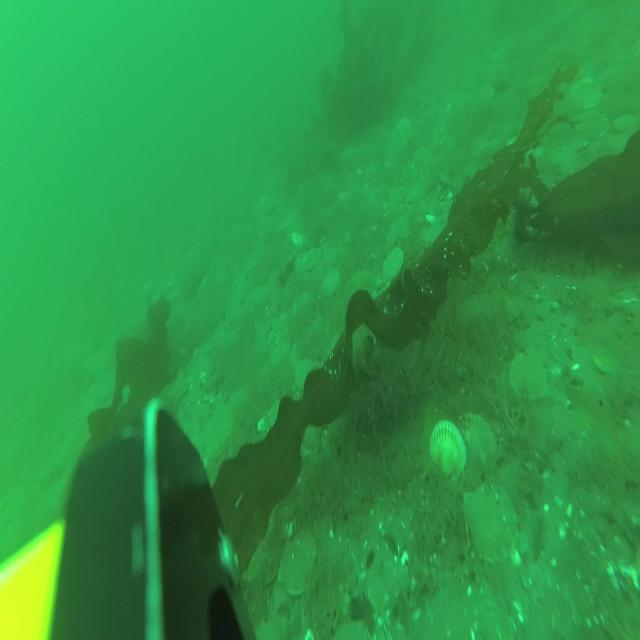scallop: (469, 483, 512, 564), (430, 421, 468, 482), (280, 535, 315, 593), (509, 353, 546, 405), (368, 562, 399, 618), (202, 407, 236, 456), (461, 418, 491, 468), (293, 358, 323, 395), (382, 248, 402, 281), (304, 243, 323, 277), (320, 270, 342, 299)
